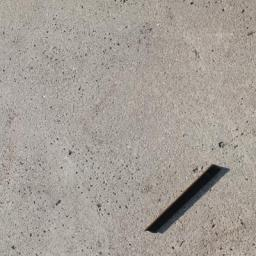FOD: (144, 162, 227, 237)
